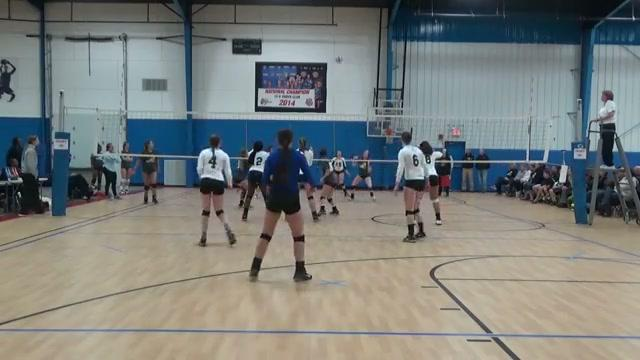ball: (333, 54, 345, 65)
